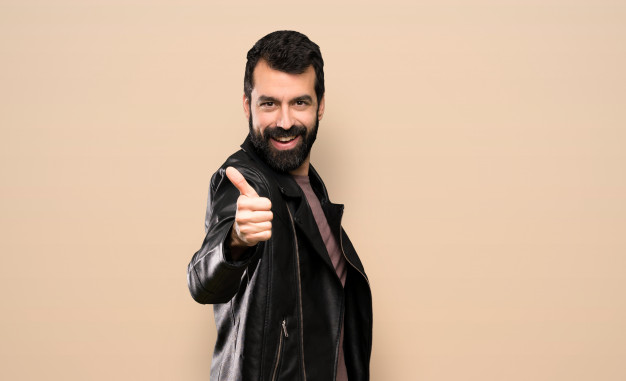thumbsup: (225, 166, 273, 242)
